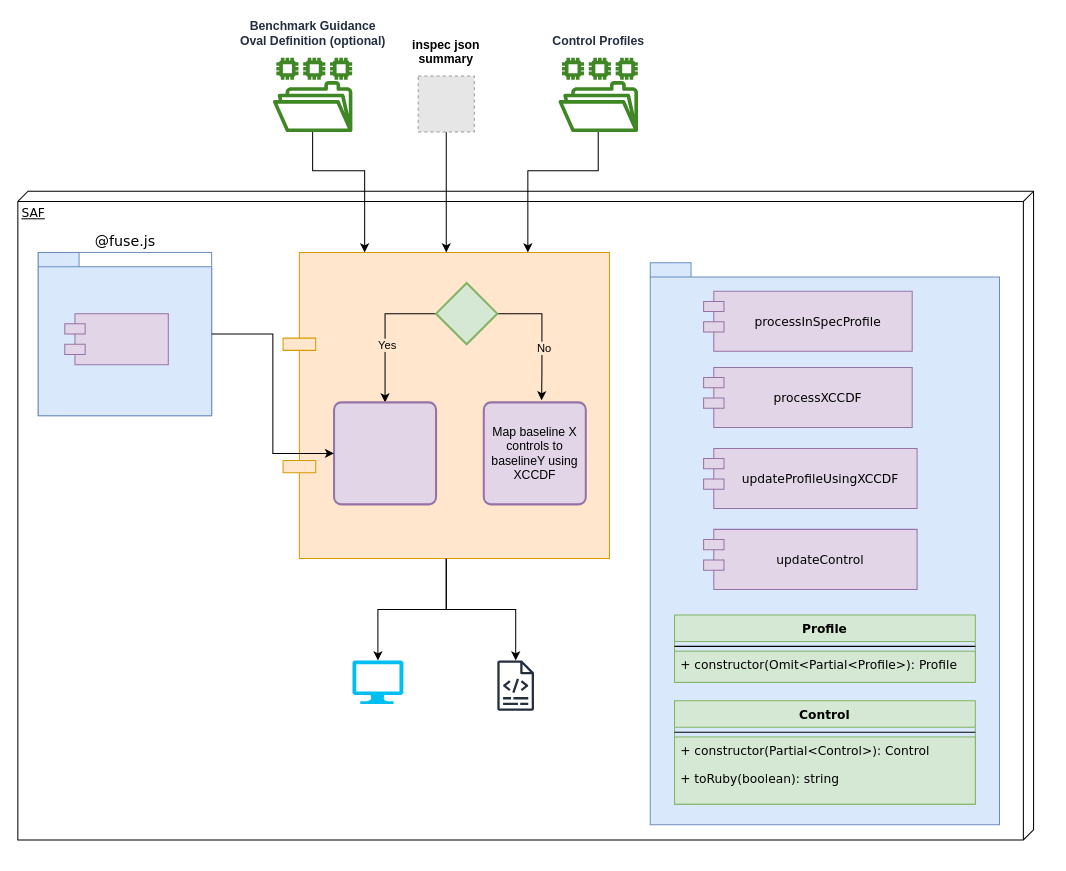
The diagram is 1066 pixels wide and 871 high, and some of its shapes have lost their labels. Grey dashed boxes stand in for pictures. The box of each missing label's shape, as (x1, y1, x2, y2) in pixels:
@mitre/inspec-objects: (649, 262, 999, 825)
delta process: (282, 251, 609, 558)
Fuse: (64, 313, 168, 365)
Fuzzy Match: (435, 282, 498, 345)
Map baseline X controls to baseline Y using fuzzy logic: (333, 401, 437, 505)
Output Logs: (497, 660, 534, 710)
Output Results Summary: (352, 660, 403, 704)
